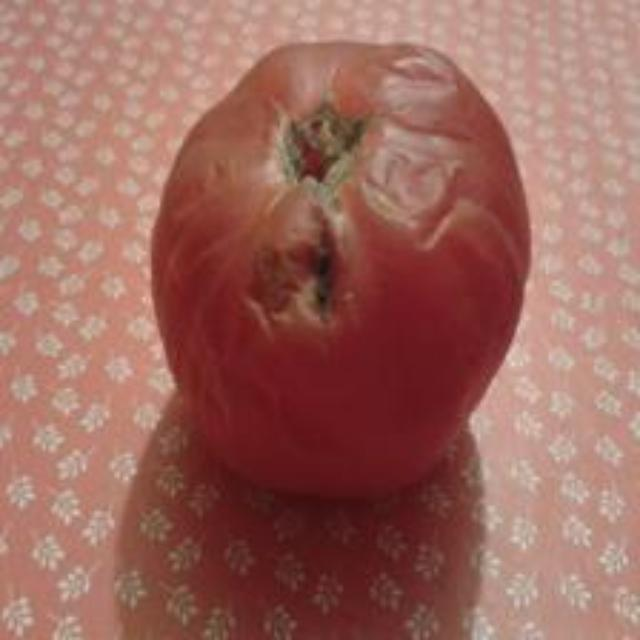defect: (150, 33, 536, 506)
